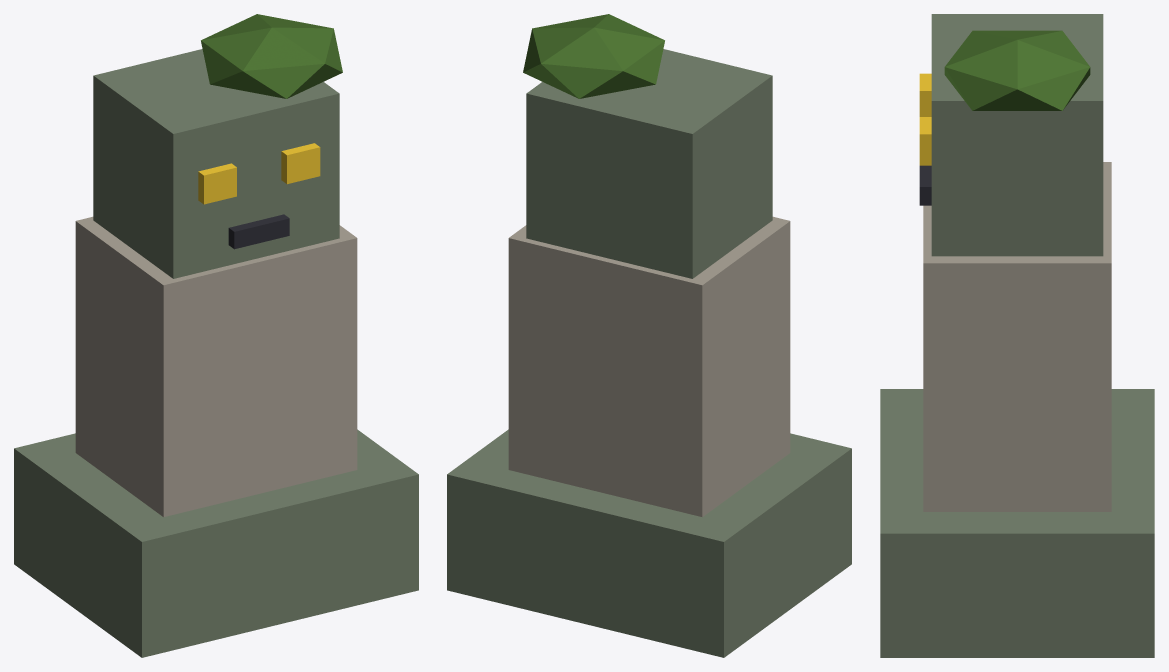
The model's file is stone_idol.glb.
3 renders of one model, left to right at view 1: azimuth 30°, elevation 25°; view 2: azimuth 150°, elevation 25°; view 3: azimuth 270°, elevation 25°, orthographic. The views are drawn at different scales.
Parts seen in each view (by area): view 1: stone_idol; view 2: stone_idol; view 3: stone_idol.
Boxes of the visible parts, x1,y1,x2,y2 form: stone_idol: (14, 14, 418, 657); stone_idol: (447, 14, 851, 657); stone_idol: (880, 14, 1154, 657).
Bounding box in the file's own units: 1 × 1.85 × 0.8.
